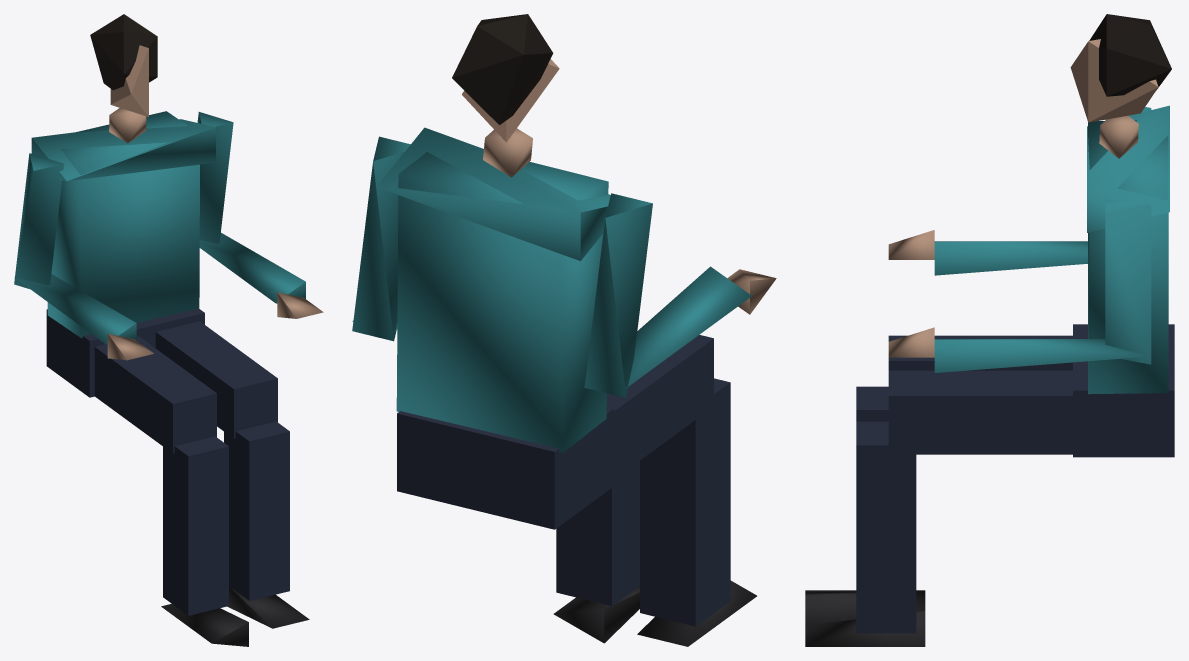
Rendered from person_seated_a_LOD1.glb.
3 renders of one model, left to right at view 1: azimuth 30°, elevation 25°; view 2: azimuth 150°, elevation 25°; view 3: azimuth 270°, elevation 25°, orthographic. The views are drawn at different scales.
Visible parts, largest first — view 1: Body_LOD1; view 2: Body_LOD1; view 3: Body_LOD1.
Boxes of the visible parts, <box> form: Body_LOD1: <box>14,14,323,646</box>; Body_LOD1: <box>352,14,776,646</box>; Body_LOD1: <box>805,14,1174,646</box>.
Bounding box in the file's own units: 0.59 × 1.47 × 0.8.
